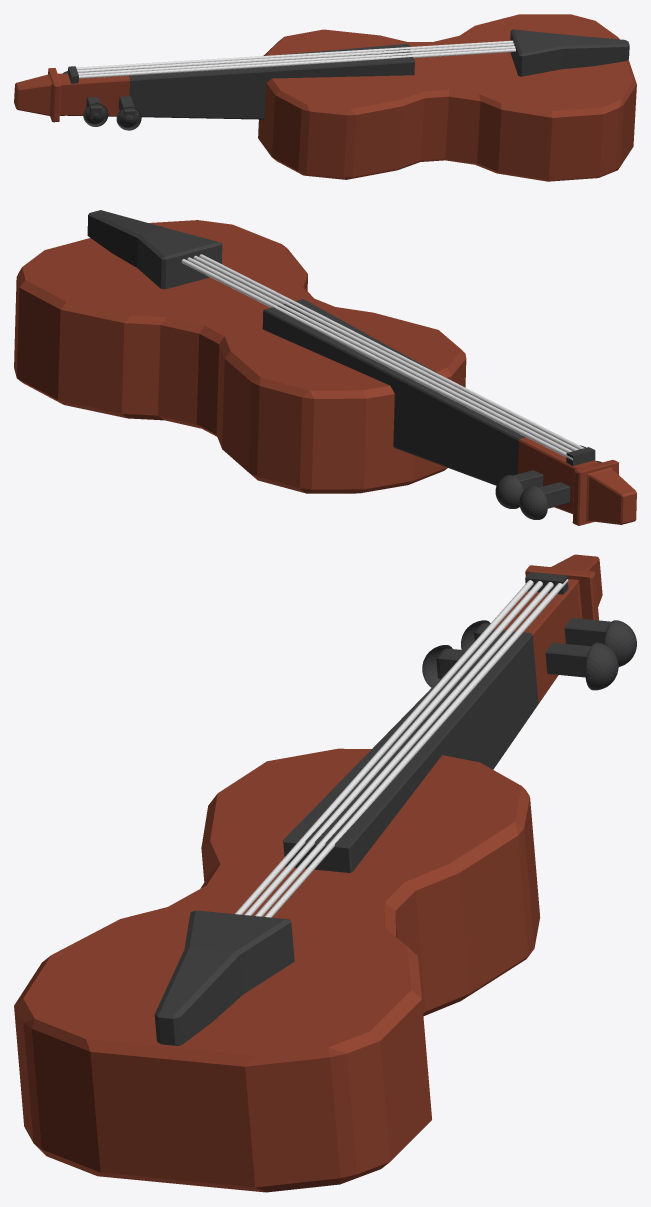
Rendered from Violin.fbx.
3 views of the same model, one above another, from view 1: azimuth 30°, elevation 25°; view 2: azimuth 150°, elevation 25°; view 3: azimuth 270°, elevation 25° (orthographic). The views are drawn at different scales.
Parts seen in each view (by area): view 1: Cube.033; view 2: Cube.033; view 3: Cube.033.
Boxes of the visible parts, left/top/right/bottom form: Cube.033: left=14, top=14, right=636, bottom=181; Cube.033: left=14, top=210, right=636, bottom=525; Cube.033: left=14, top=554, right=636, bottom=1192.
Bounding box in the file's own units: 351 × 67.72 × 192.
